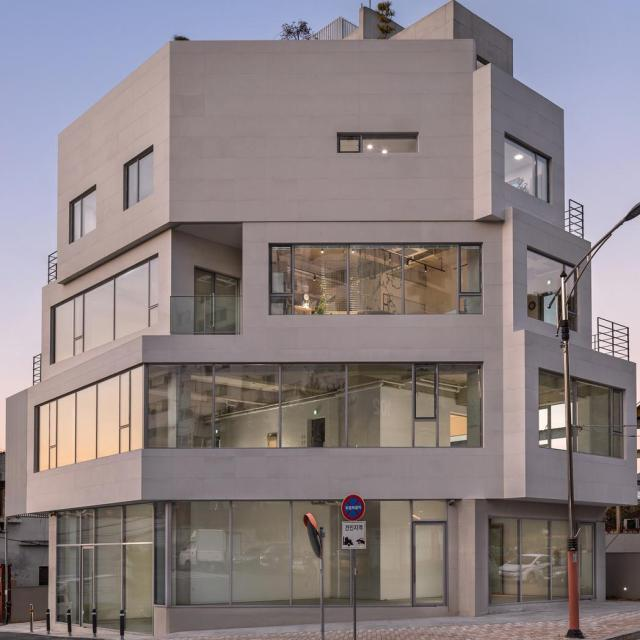Railing: (168, 295, 242, 335), (591, 314, 629, 361), (564, 195, 585, 239)
door: (409, 498, 447, 608)
wall: (5, 0, 638, 638)
windows: (37, 362, 483, 471), (154, 503, 408, 604), (270, 244, 484, 314), (56, 503, 157, 636), (53, 254, 158, 362), (489, 518, 595, 606), (534, 366, 624, 459), (528, 250, 577, 332), (503, 135, 551, 204), (127, 148, 153, 208), (71, 184, 97, 242), (339, 134, 418, 153), (195, 266, 238, 297)
